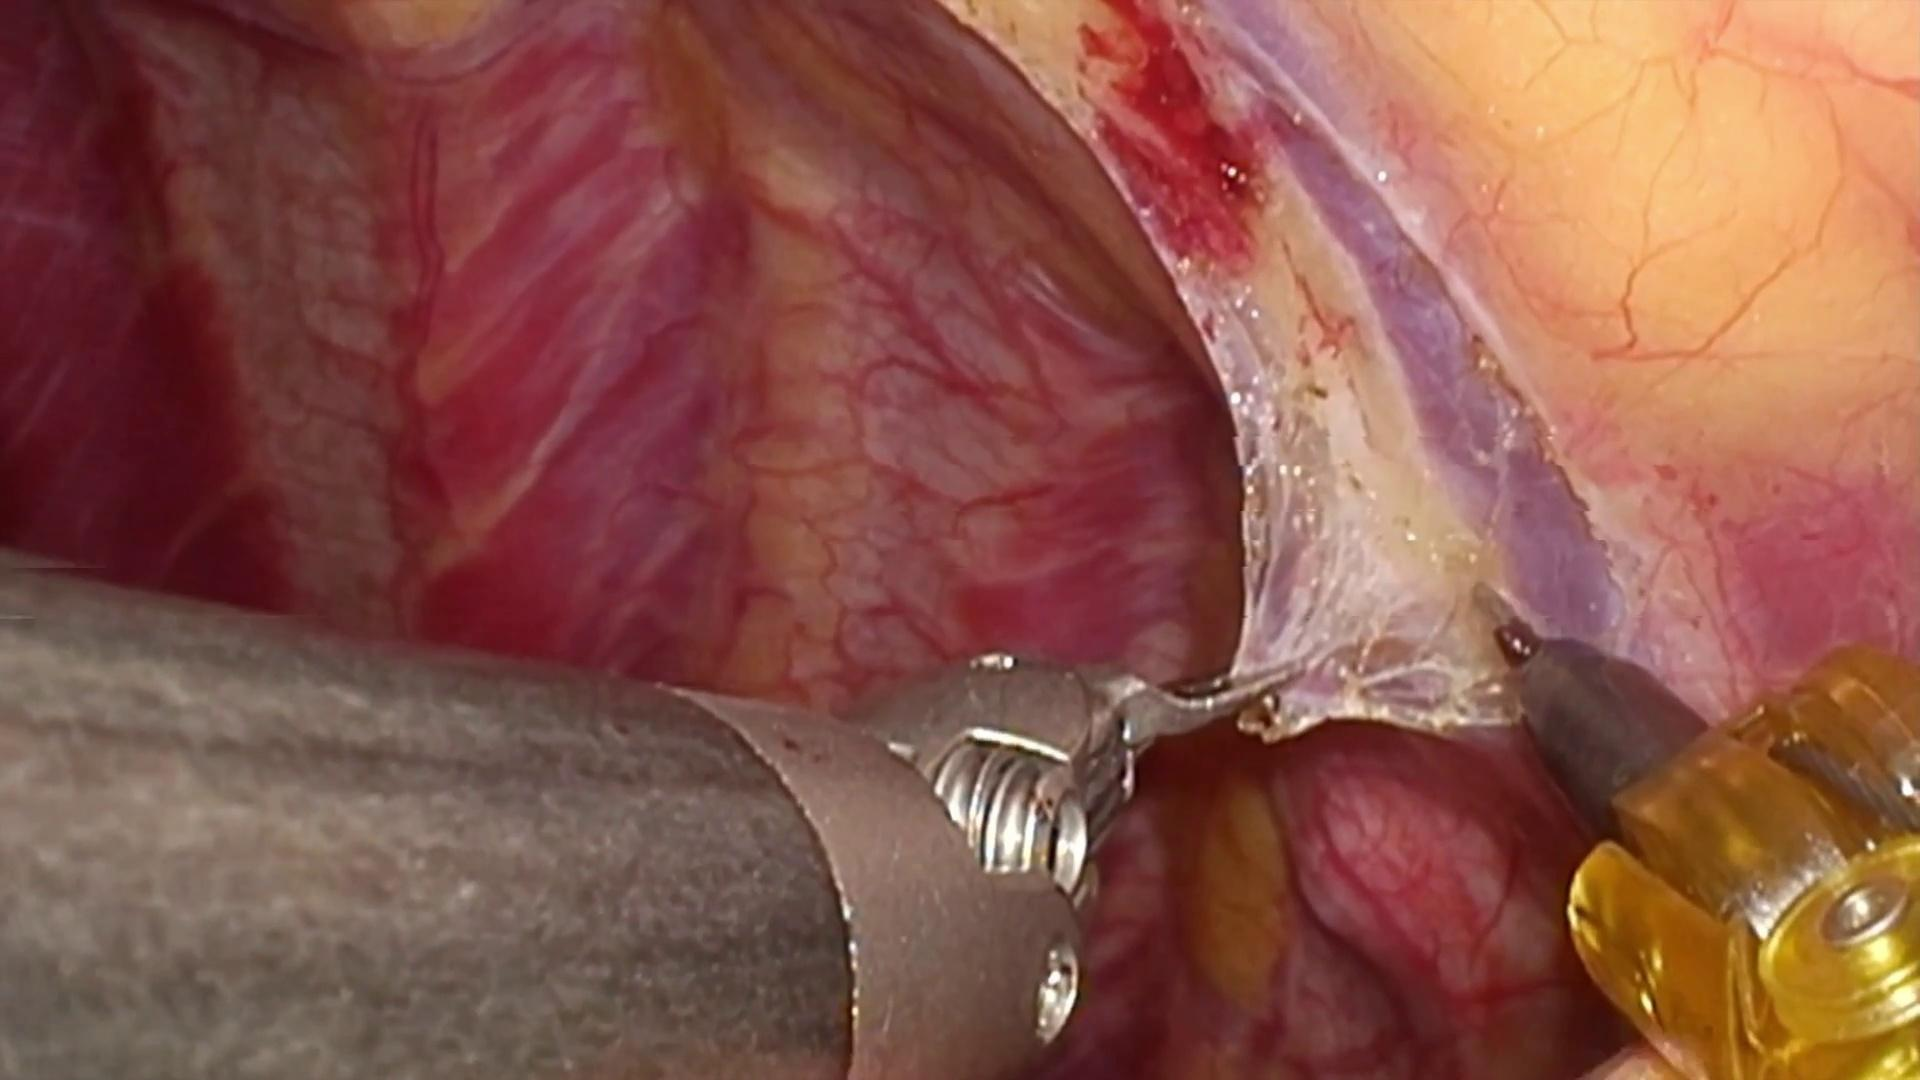Cautery_Spatula: (1464, 572, 1713, 827)
Debakey: (1069, 654, 1315, 793)
